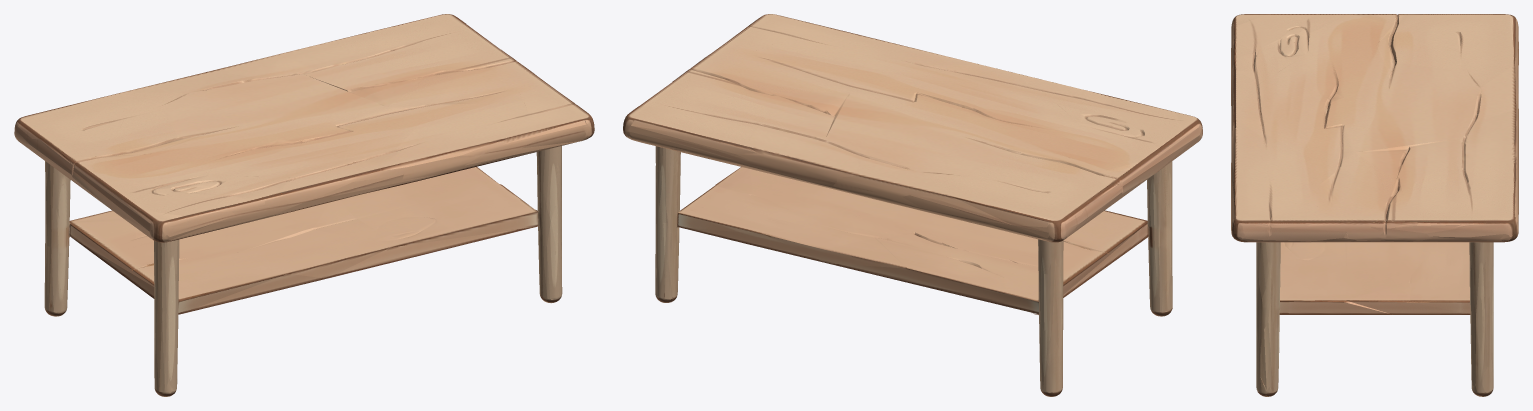
The model's file is raw_coffee_table.glb.
The picture shows the model from 3 angles, left to right: view 1: azimuth 30°, elevation 25°; view 2: azimuth 150°, elevation 25°; view 3: azimuth 270°, elevation 25°; orthographic projection. The views are drawn at different scales.
Bounding box in the file's own units: 1.9 × 0.7813 × 1.1.
1 material, 1 textured.
